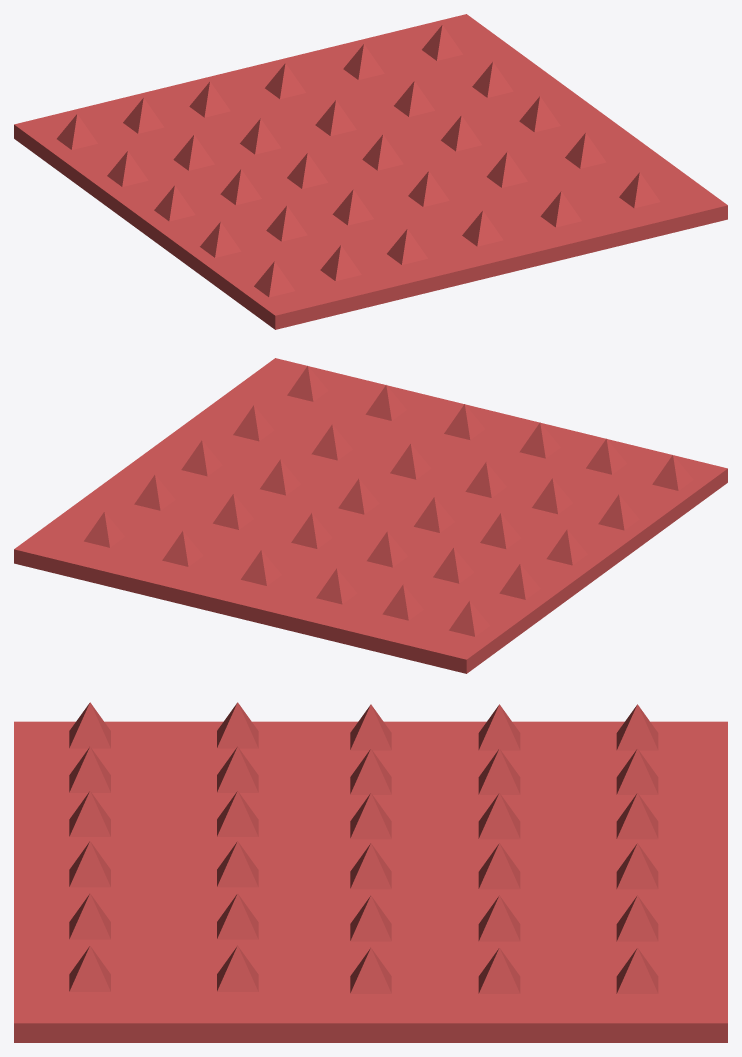
The model's file is pics.glb.
The picture shows the model from 3 angles, top to bottom: view 1: azimuth 30°, elevation 25°; view 2: azimuth 150°, elevation 25°; view 3: azimuth 270°, elevation 25°; orthographic projection. The views are drawn at different scales.
Visible parts, largest first — view 1: pic; view 2: pic; view 3: pic.
Boxes of the visible parts, x1,y1,x2,y2 form: pic: (14,14,727,329); pic: (14,358,727,673); pic: (14,702,727,1042).
Size of the model in its own units: 15 by 1.32 by 15.
Materials: 1 (1 with a texture image).
